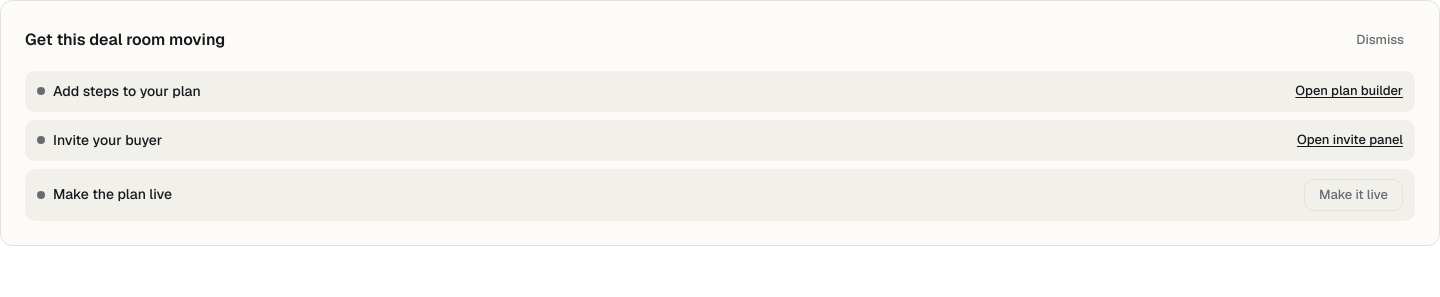
ActivationChecklist — dismiss › shows the UNAUTHENTICATED-specific message when the seller's session has lapsed
Click the button "Dismiss" at point(1380, 40), box [1345,25,1415,54]
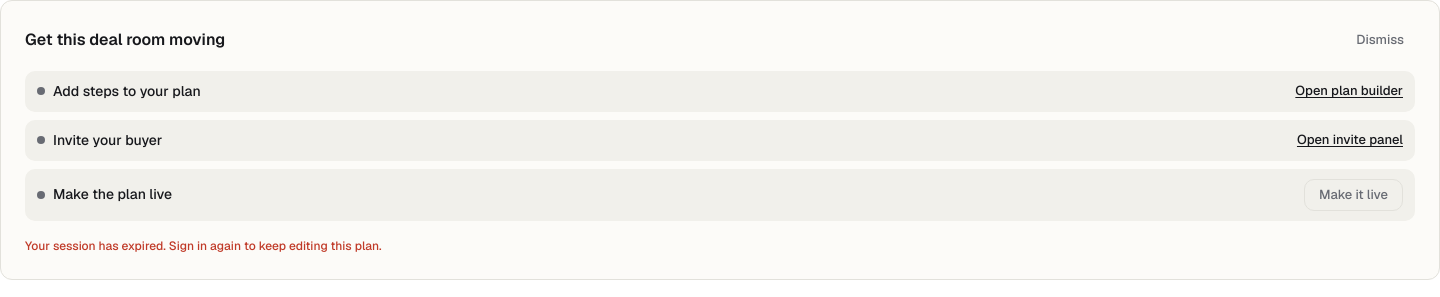
Expected: the message reads "Your session has expired. Sign in again to keep editing this plan.", [25,238,382,254]
